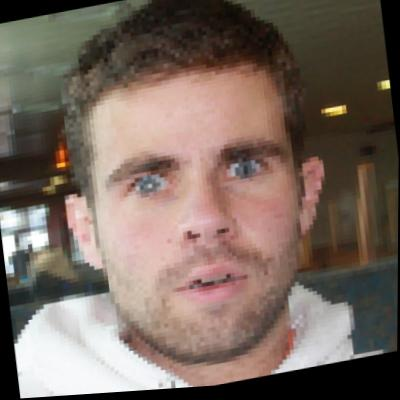surprise: (83, 39, 316, 369)
